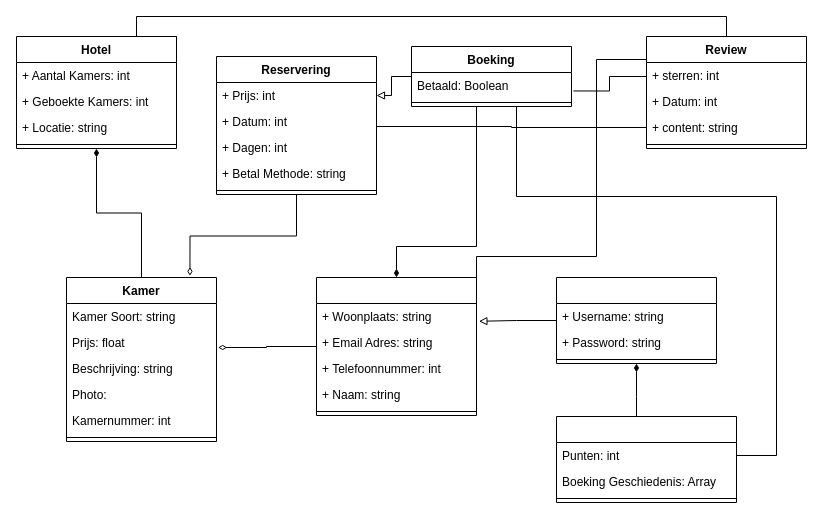
Image size: 823x519. Some labels were removed from this diagram. Here are the shapes that lost their labels. From the top down, the box of each, then its label:
(556, 276, 716, 364): Vaste Gast
(316, 276, 476, 416): Gast
(556, 416, 736, 502): Account
